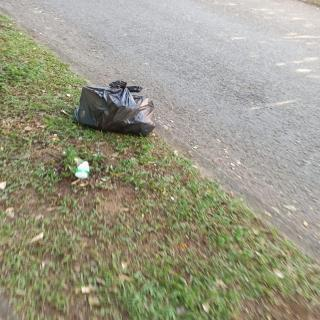Garbage: (73, 77, 163, 138)
